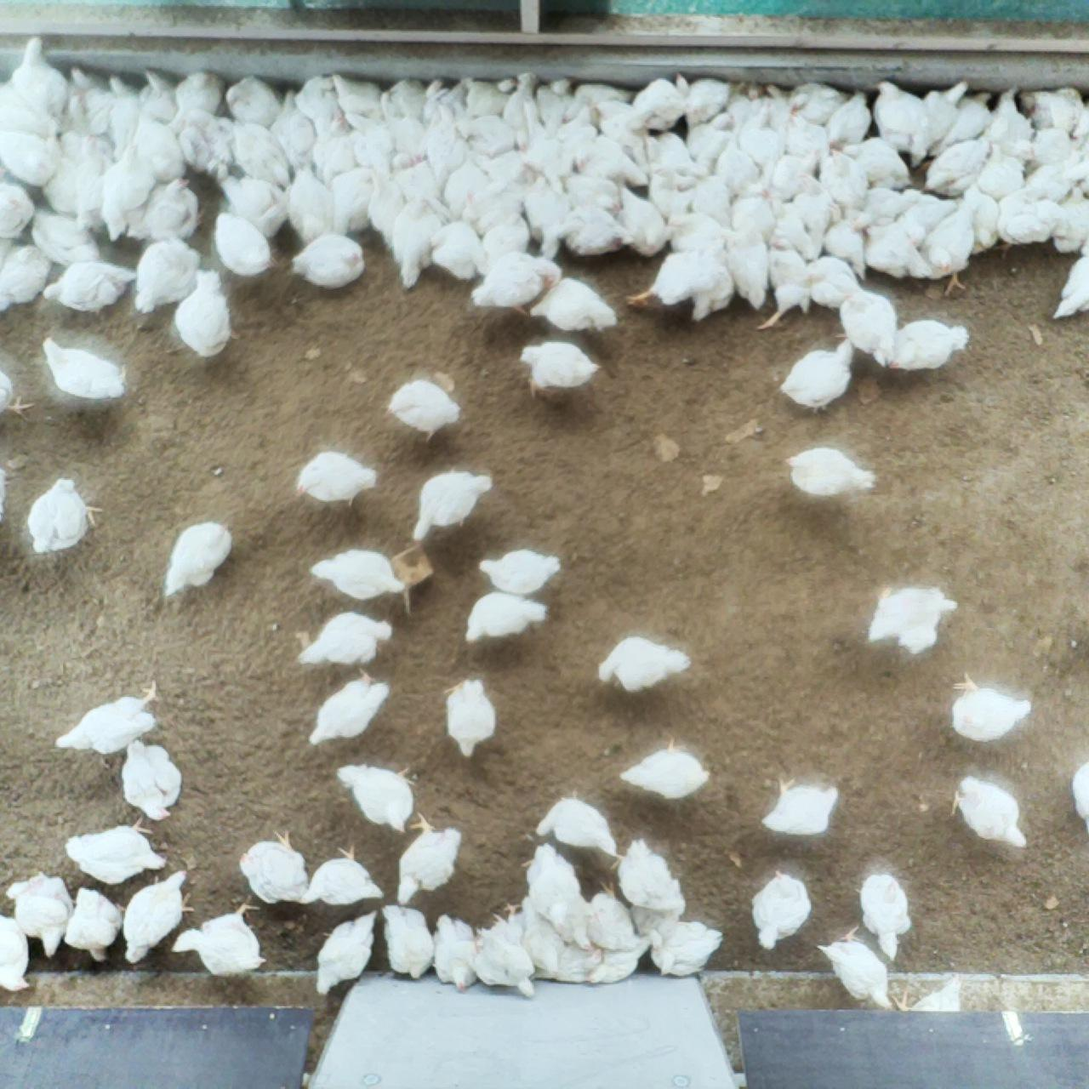chicken: (51, 678, 166, 757), (170, 894, 269, 980), (519, 840, 596, 949), (120, 868, 200, 969), (65, 813, 171, 888), (305, 664, 393, 753), (391, 809, 468, 906), (814, 924, 896, 1010), (866, 582, 961, 655), (168, 269, 242, 362), (612, 837, 694, 919), (470, 249, 563, 321), (622, 249, 711, 324), (474, 899, 540, 1000), (161, 517, 237, 604), (409, 470, 496, 545), (26, 472, 103, 556), (596, 633, 692, 700), (532, 786, 620, 858), (616, 732, 713, 797), (3, 869, 73, 959), (334, 762, 421, 834), (294, 608, 395, 670), (948, 670, 1032, 744), (778, 336, 855, 416), (949, 774, 1031, 849), (311, 911, 379, 1001), (237, 827, 313, 907), (293, 843, 388, 907), (3, 36, 69, 128), (41, 256, 138, 318), (208, 158, 289, 232), (41, 334, 130, 401), (132, 234, 204, 316), (308, 545, 407, 603), (379, 376, 464, 442), (919, 201, 978, 296), (120, 735, 184, 822), (748, 867, 815, 950), (853, 869, 913, 961), (97, 143, 153, 241), (909, 80, 971, 167), (503, 889, 564, 976), (516, 339, 603, 400), (130, 175, 205, 245), (218, 117, 295, 185), (439, 674, 500, 759), (784, 445, 880, 499), (293, 446, 379, 505), (528, 277, 616, 334), (835, 289, 899, 367), (760, 776, 840, 838), (64, 885, 124, 966), (290, 230, 369, 291), (392, 197, 445, 287), (762, 238, 812, 332), (921, 132, 993, 197), (887, 317, 971, 372), (871, 79, 928, 160), (929, 91, 998, 157), (378, 903, 437, 980), (29, 209, 101, 272), (65, 128, 109, 231), (0, 118, 62, 190), (724, 224, 776, 309), (648, 921, 726, 977), (428, 911, 479, 994), (475, 546, 558, 597), (580, 877, 641, 946), (575, 135, 651, 190), (995, 189, 1066, 247), (210, 213, 273, 278), (791, 172, 837, 259), (619, 185, 673, 258), (563, 204, 634, 258), (0, 243, 52, 316), (981, 88, 1036, 157), (432, 218, 489, 284), (866, 224, 932, 281), (526, 174, 570, 259), (270, 86, 317, 165), (841, 138, 914, 187), (588, 935, 655, 988), (169, 68, 227, 128), (426, 103, 470, 181), (292, 165, 335, 244), (342, 110, 395, 173), (825, 88, 876, 153), (715, 138, 770, 198), (822, 144, 872, 210), (798, 256, 862, 307), (133, 119, 186, 179), (682, 111, 734, 172), (898, 193, 956, 247), (890, 973, 966, 1014), (852, 187, 922, 231), (676, 71, 736, 122), (466, 180, 527, 230), (628, 77, 684, 131), (771, 146, 825, 202), (484, 210, 532, 272), (331, 165, 374, 234), (962, 181, 1002, 255), (621, 897, 681, 946), (665, 210, 727, 257), (788, 78, 850, 125), (0, 908, 33, 996), (105, 74, 139, 158), (737, 107, 783, 169), (181, 109, 229, 168), (780, 110, 832, 164), (521, 96, 564, 161), (392, 154, 450, 202), (368, 175, 407, 246), (331, 71, 385, 122), (444, 157, 489, 218), (701, 240, 734, 322), (1050, 184, 1089, 253), (56, 94, 98, 158), (730, 183, 776, 241), (563, 80, 633, 118), (980, 140, 1025, 199), (552, 937, 608, 984), (642, 131, 706, 172), (1051, 253, 1089, 322), (231, 70, 283, 120), (470, 152, 530, 194), (461, 73, 519, 116), (773, 202, 816, 260), (314, 116, 353, 178), (560, 177, 622, 216), (0, 180, 38, 243), (825, 220, 866, 278), (524, 140, 570, 191), (0, 365, 37, 424), (504, 72, 543, 127), (139, 67, 179, 120), (1025, 162, 1076, 203), (648, 170, 697, 211), (383, 79, 427, 124), (1026, 90, 1079, 127), (697, 175, 733, 229), (593, 98, 642, 137), (541, 74, 577, 127), (344, 92, 394, 130), (392, 118, 428, 167), (471, 117, 514, 158), (1031, 127, 1077, 165), (732, 80, 770, 124), (760, 80, 792, 132), (294, 76, 338, 112), (566, 108, 599, 156), (1069, 757, 1089, 834), (81, 87, 116, 129), (424, 77, 455, 118), (70, 65, 110, 90), (1072, 142, 1089, 185), (1070, 103, 1089, 139)
